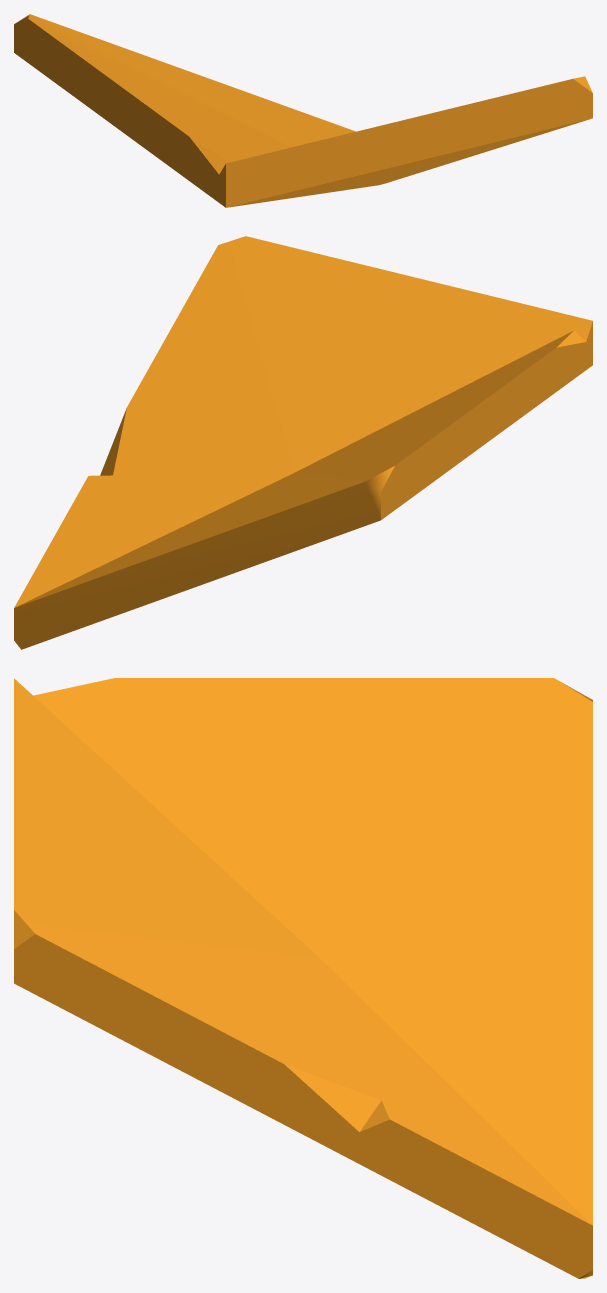
Rendered from SM_Buildings_RoofAngledCornerInner_1x1_01P.fbx.
3 renders of one model, top to bottom at view 1: azimuth 30°, elevation 25°; view 2: azimuth 150°, elevation 25°; view 3: azimuth 270°, elevation 25°, orthographic. The views are drawn at different scales.
Visible parts, largest first — view 1: SM_Buildings_RoofAngledCornerInner_1x1_01P; view 2: SM_Buildings_RoofAngledCornerInner_1x1_01P; view 3: SM_Buildings_RoofAngledCornerInner_1x1_01P.
Part boxes in pixels (x1=…): SM_Buildings_RoofAngledCornerInner_1x1_01P: x1=14, y1=14, x2=592, y2=207; SM_Buildings_RoofAngledCornerInner_1x1_01P: x1=14, y1=236, x2=592, y2=649; SM_Buildings_RoofAngledCornerInner_1x1_01P: x1=14, y1=678, x2=592, y2=1278.
Size of the model in its own units: 100 by 68.48 by 100.
